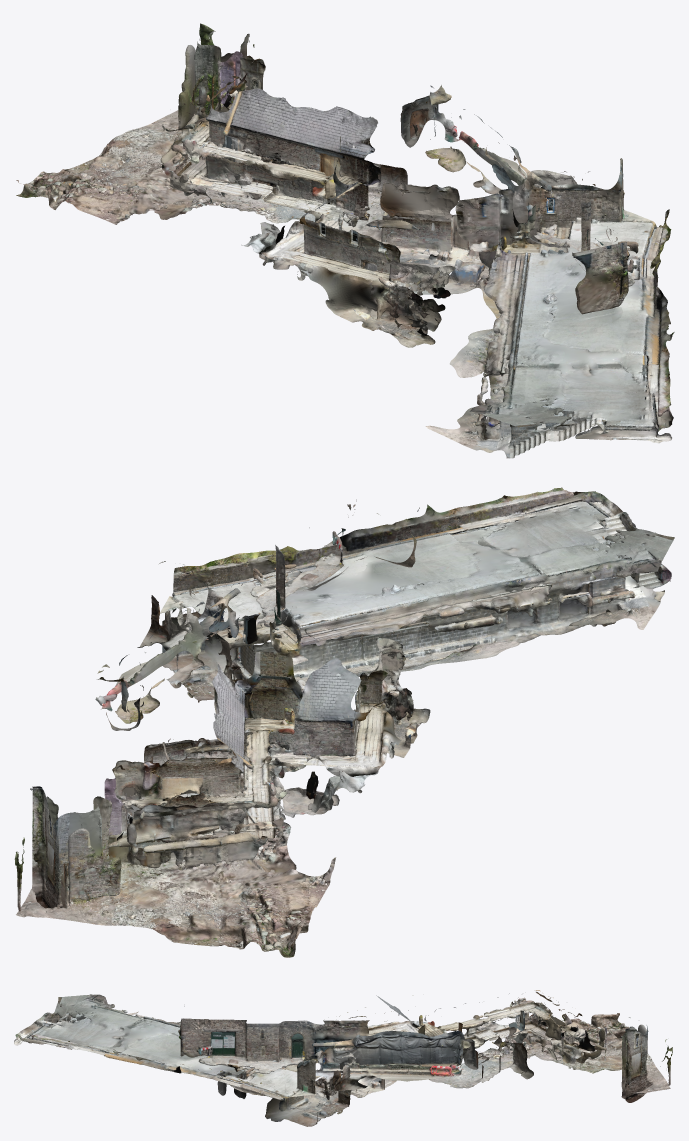
Rendered from island-house-lidar.glb.
The picture shows the model from 3 angles, top to bottom: view 1: azimuth 30°, elevation 25°; view 2: azimuth 150°, elevation 25°; view 3: azimuth 270°, elevation 25°; orthographic projection. The views are drawn at different scales.
Bounding box in the file's own units: 26.55 × 9.42 × 61.33.
Materials: 28 (28 with a texture image).
